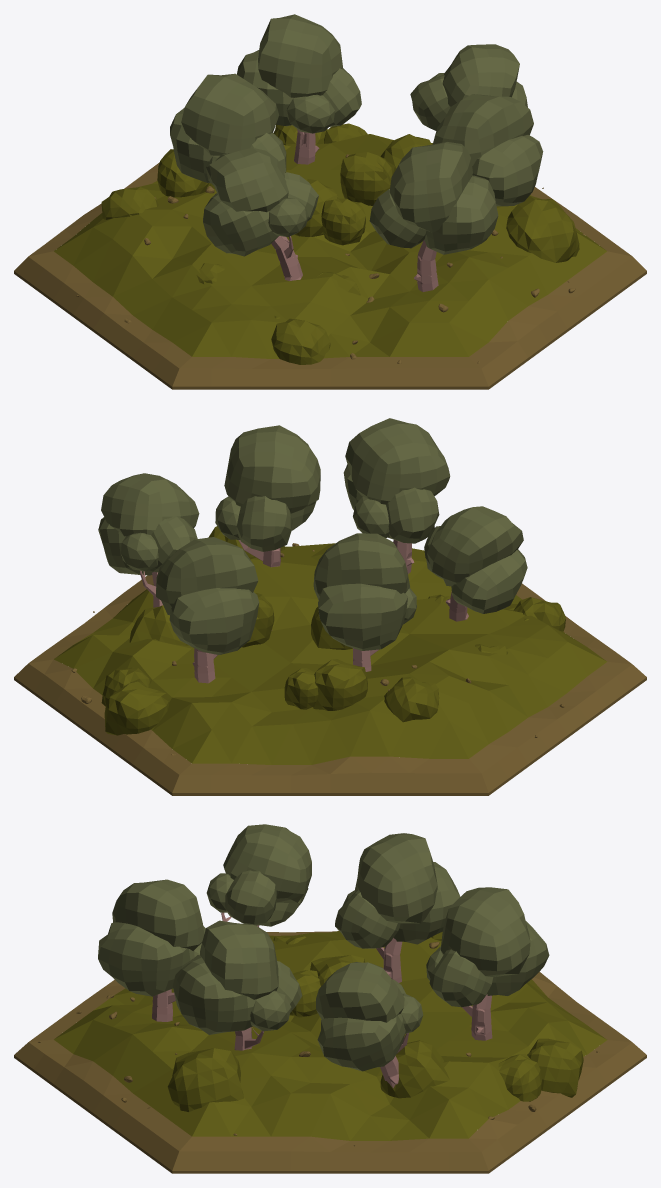
Rendered from tropicalrainforest.glb.
3 views of the same model, one above another, from view 1: azimuth 30°, elevation 25°; view 2: azimuth 150°, elevation 25°; view 3: azimuth 270°, elevation 25° (orthographic).
Visible parts, largest first — view 1: land, big_details; view 2: land, big_details; view 3: land, big_details.
Part boxes in pixels (<box>): land: <box>14,123,646,389</box>; big_details: <box>170,14,543,291</box>; land: <box>14,526,646,795</box>; big_details: <box>98,418,527,683</box>; land: <box>14,931,646,1173</box>; big_details: <box>98,824,549,1088</box>.
Size of the model in its own units: 1.73 by 0.6744 by 2.
